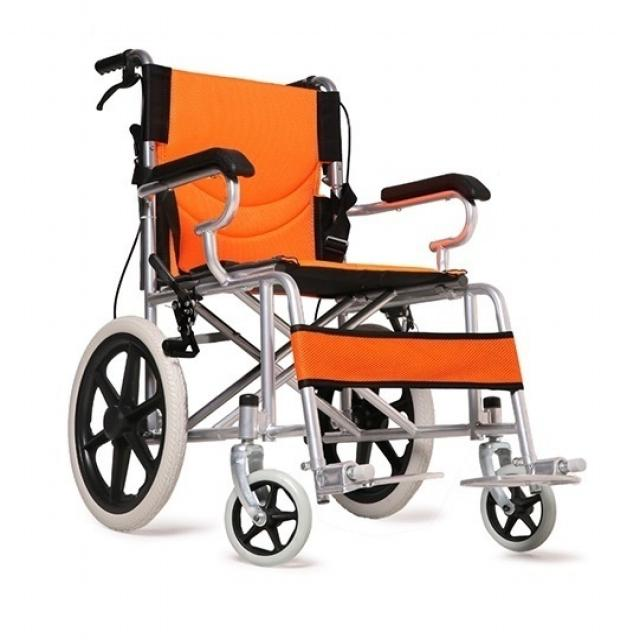wheelchair: (54, 27, 606, 577)
